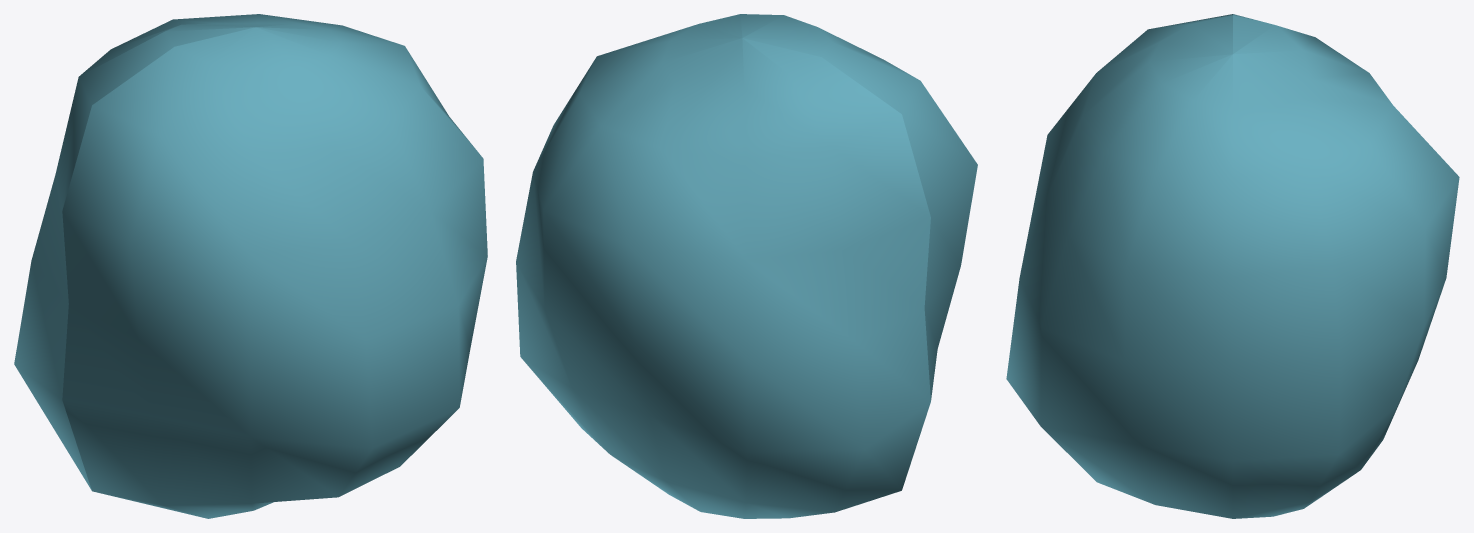
File: right_scaphoid.glb
The picture shows the model from 3 angles, left to right: view 1: azimuth 30°, elevation 25°; view 2: azimuth 150°, elevation 25°; view 3: azimuth 270°, elevation 25°; orthographic projection. The views are drawn at different scales.
Visible parts, largest first — view 1: right_scaphoid:body; view 2: right_scaphoid:body; view 3: right_scaphoid:body.
Boxes of the visible parts, box(x1,y1,x2,y2) form: right_scaphoid:body: box(14, 14, 487, 518); right_scaphoid:body: box(516, 14, 977, 518); right_scaphoid:body: box(1006, 14, 1459, 518).
Bounding box in the file's own units: 0.0504 × 0.0576 × 0.0528.
